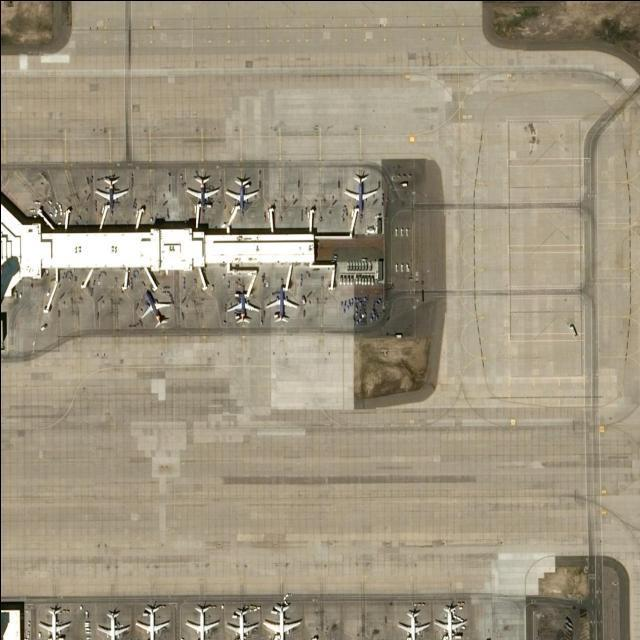Aircraft: (342, 170, 380, 214), (224, 169, 261, 213), (262, 600, 302, 640), (182, 171, 219, 213), (139, 287, 175, 326), (93, 171, 130, 208), (134, 604, 172, 640), (265, 287, 301, 323), (227, 287, 261, 323), (434, 603, 467, 640), (226, 605, 260, 640), (396, 606, 431, 640), (186, 603, 218, 640), (37, 606, 70, 640), (96, 608, 128, 640)
